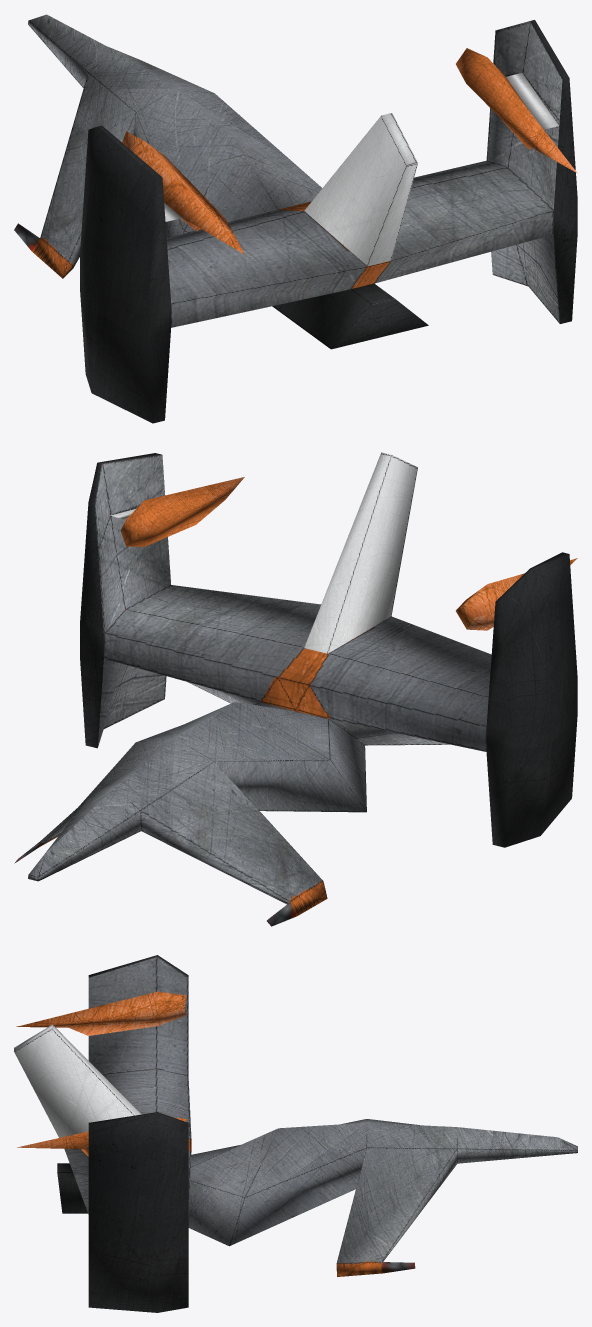
File: spaceship_orange.fbx
3 views of the same model, one above another, from view 1: azimuth 30°, elevation 25°; view 2: azimuth 150°, elevation 25°; view 3: azimuth 270°, elevation 25° (orthographic). The views are drawn at different scales.
Parts seen in each view (by area): view 1: Cube; view 2: Cube; view 3: Cube.
Boxes of the visible parts, bbox=[...] form: Cube: bbox=[14, 14, 577, 423]; Cube: bbox=[14, 452, 577, 926]; Cube: bbox=[14, 955, 577, 1312].
Bounding box in the file's own units: 3.97 × 2.26 × 5.64.
1 material, 1 textured.
